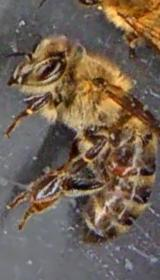varroa_mite: (105, 156, 144, 181)
